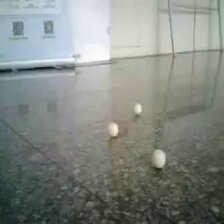w: (150, 148, 166, 169), (107, 122, 119, 137), (132, 103, 142, 115)
